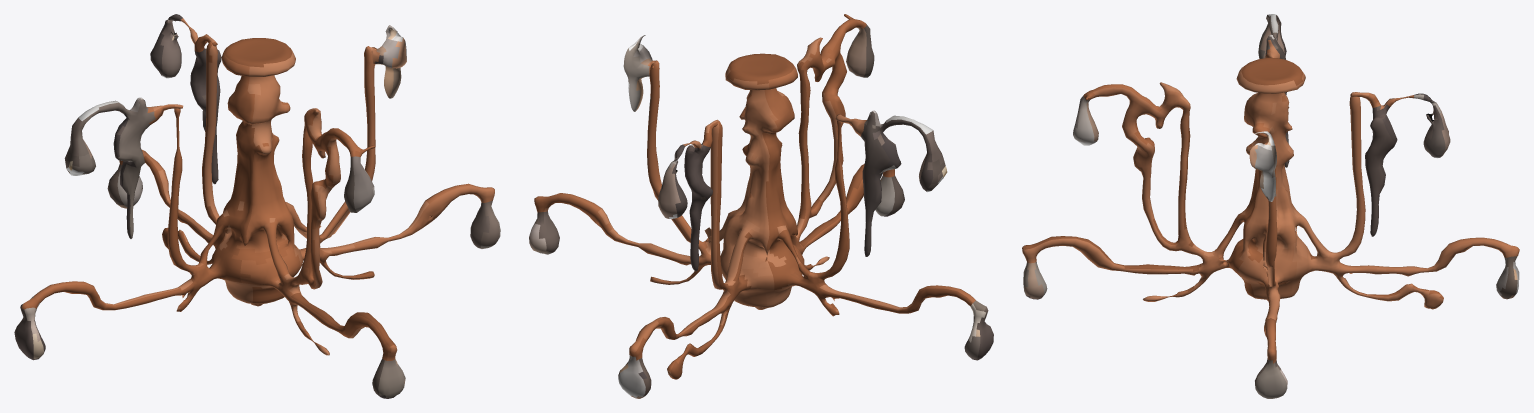
File: Candelabro.obj
The picture shows the model from 3 angles, left to right: view 1: azimuth 30°, elevation 25°; view 2: azimuth 150°, elevation 25°; view 3: azimuth 270°, elevation 25°; orthographic projection. The views are drawn at different scales.
Parts seen in each view (by area): view 1: Candelabro; view 2: Candelabro; view 3: Candelabro.
Part boxes in pixels (x1,y1,x2,y2): Candelabro: [14, 14, 500, 398]; Candelabro: [529, 14, 993, 398]; Candelabro: [1022, 14, 1519, 398].
Bounding box in the file's own units: 8.43 × 4.49 × 8.45.
1 material, 1 textured.
